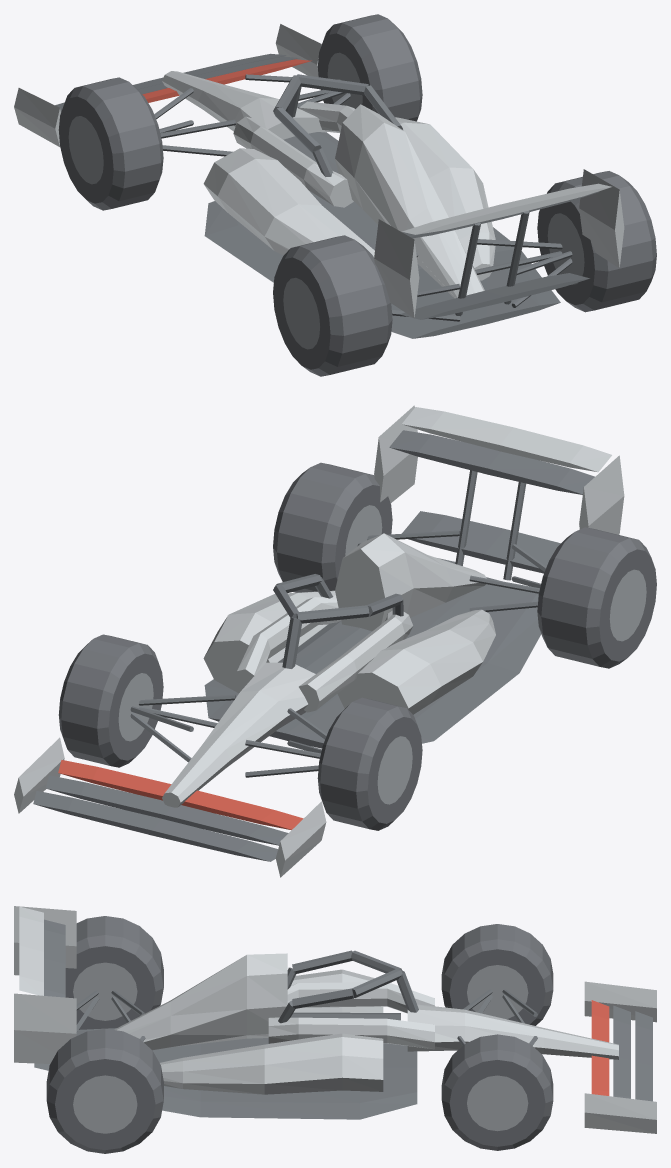
The model's file is universal-car.glb.
3 views of the same model, one above another, from view 1: azimuth 30°, elevation 25°; view 2: azimuth 150°, elevation 25°; view 3: azimuth 270°, elevation 25° (orthographic). The views are drawn at different scales.
Parts seen in each view (by area): view 1: rear_wheels, front_wheels, sidepods, engine_cover, rear_wing, floor, front_wing, cockpit, nose, halo, beam_wing, front_suspension (+1 smaller); view 2: rear_wheels, front_wheels, rear_wing, front_wing, sidepods, floor, cockpit, engine_cover, nose, beam_wing, front_suspension, halo (+1 smaller); view 3: rear_wheels, front_wheels, sidepods, engine_cover, floor, rear_wing, front_wing, cockpit, nose, halo, front_suspension, rear_suspension.
Part boxes in pixels (x1,y1,x2,y2): rear_wheels: [273, 171, 656, 376]; front_wheels: [58, 14, 422, 210]; sidepods: [203, 117, 495, 280]; engine_cover: [335, 104, 484, 298]; rear_wing: [374, 169, 624, 318]; floor: [204, 190, 560, 338]; front_wing: [14, 24, 321, 146]; cockpit: [233, 101, 355, 207]; nose: [162, 71, 327, 139]; halo: [273, 74, 402, 176]; beam_wing: [400, 273, 589, 319]; front_suspension: [154, 74, 350, 156]; rear_wheels: [273, 462, 656, 668]; front_wheels: [58, 634, 422, 830]; rear_wing: [374, 405, 624, 580]; front_wing: [14, 737, 326, 877]; sidepods: [203, 590, 495, 714]; floor: [204, 577, 541, 748]; cockpit: [233, 595, 412, 712]; engine_cover: [335, 533, 486, 631]; nose: [162, 662, 315, 807]; beam_wing: [402, 511, 560, 573]; front_suspension: [130, 694, 326, 777]; halo: [273, 574, 403, 668]; rear_wheels: [46, 916, 163, 1153]; front_wheels: [441, 924, 553, 1150]; sidepods: [160, 969, 383, 1094]; engine_cover: [114, 953, 287, 1050]; floor: [76, 1028, 417, 1119]; rear_wing: [14, 906, 76, 1063]; front_wing: [584, 981, 656, 1133]; cockpit: [268, 982, 434, 1049]; nose: [407, 1004, 618, 1059]; halo: [278, 950, 418, 1023]; front_suspension: [457, 989, 537, 1045]; rear_suspension: [76, 990, 145, 1041].
Size of the model in its own units: 2.42 by 1.15 by 4.72.
